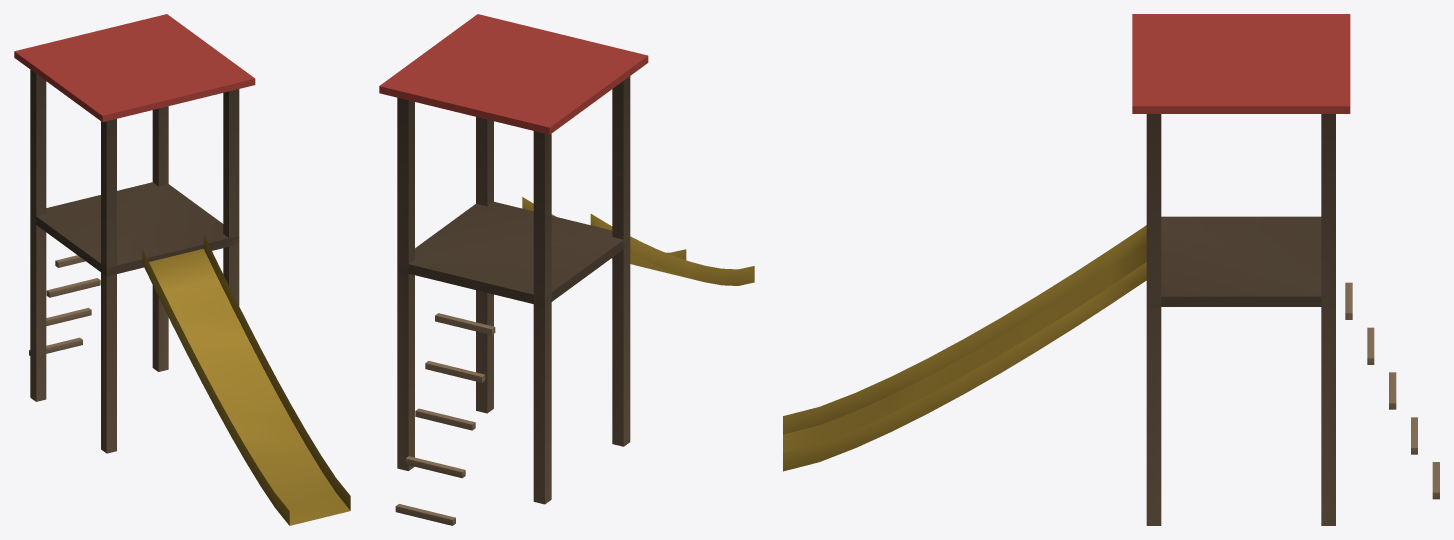
Rendered from rutsche.glb.
3 renders of one model, left to right at view 1: azimuth 30°, elevation 25°; view 2: azimuth 150°, elevation 25°; view 3: azimuth 270°, elevation 25°, orthographic. The views are drawn at different scales.
Visible parts, largest first — view 1: lack; view 2: lack; view 3: lack.
Boxes of the visible parts, left/top/right/bottom form: lack: left=14, top=14, right=350, bottom=525; lack: left=379, top=14, right=754, bottom=525; lack: left=783, top=14, right=1439, bottom=525.
Bounding box in the file's own units: 1.5 × 3.23 × 4.52.
